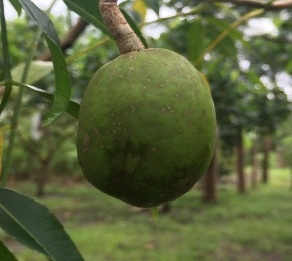Coc: (75, 50, 215, 207)
